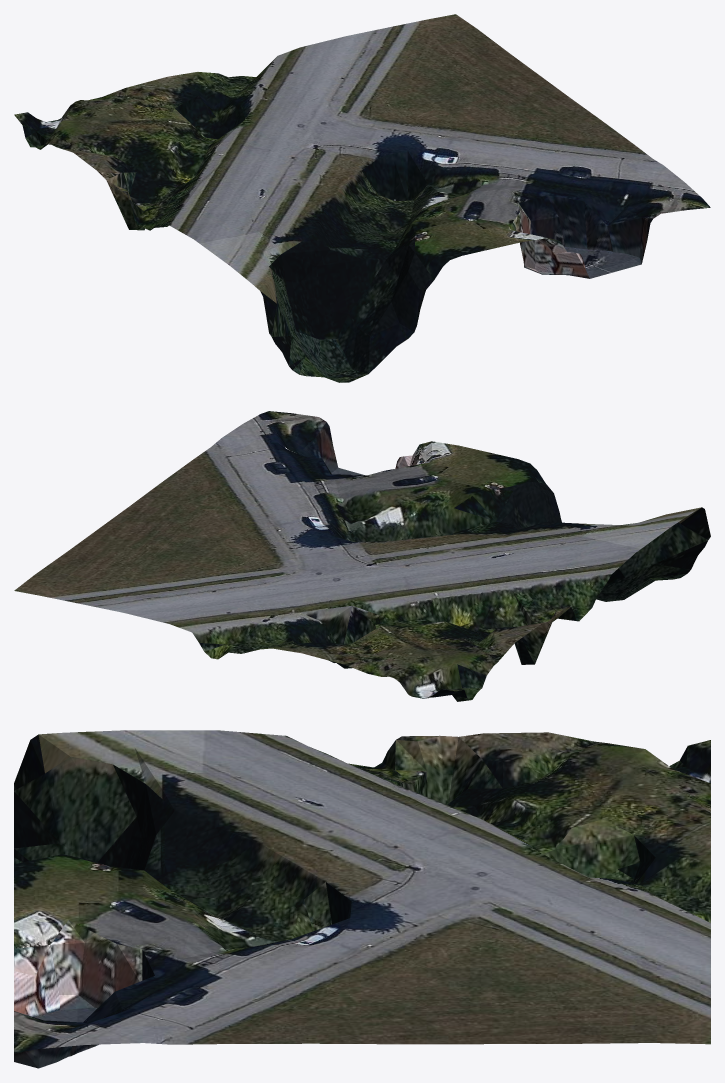
Rendered from map_15_8186_13790.dae.
The picture shows the model from 3 angles, top to bottom: view 1: azimuth 30°, elevation 25°; view 2: azimuth 150°, elevation 25°; view 3: azimuth 270°, elevation 25°; orthographic projection. The views are drawn at different scales.
Visible parts, largest first — view 1: Ter0; view 2: Ter0; view 3: Ter0.
Part boxes in pixels (bbox=[...]): Ter0: bbox=[14, 14, 710, 382]; Ter0: bbox=[14, 411, 710, 701]; Ter0: bbox=[14, 730, 710, 1068].
Bounding box in the file's own units: 63.88 × 63.88 × 15.3.
2 materials, 2 textured.
